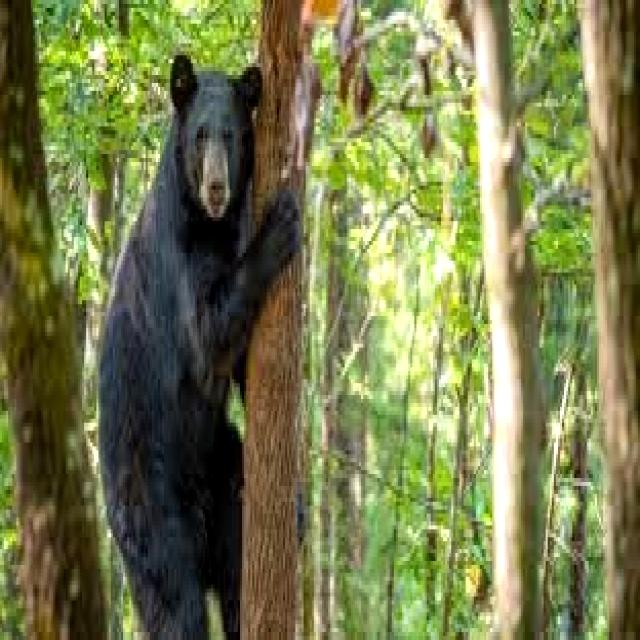bear: (154, 42, 264, 246)
